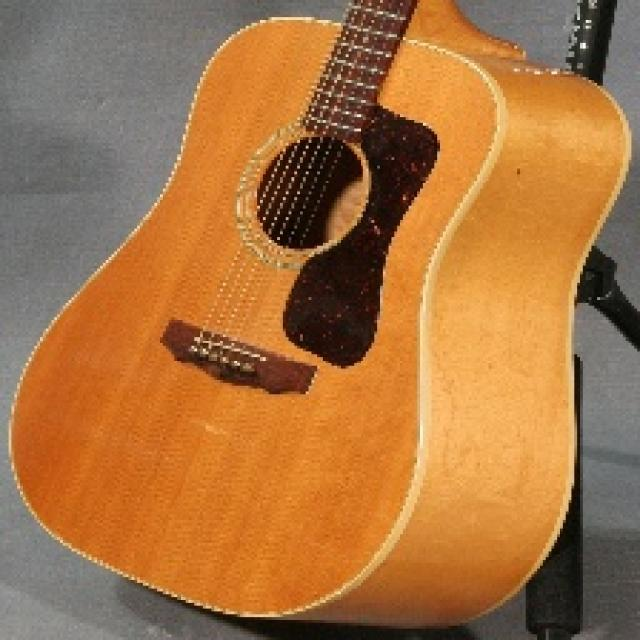guitar: (9, 0, 632, 629)
